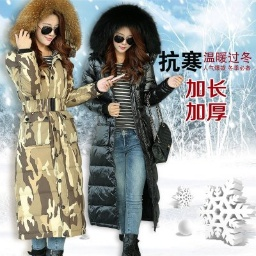face: (29, 7, 72, 66), (106, 23, 149, 75)
